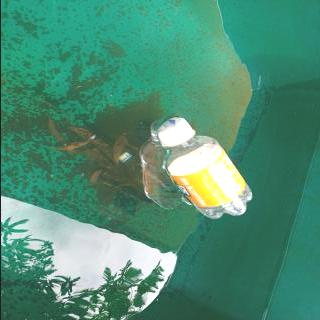bottle: (154, 115, 256, 222)
